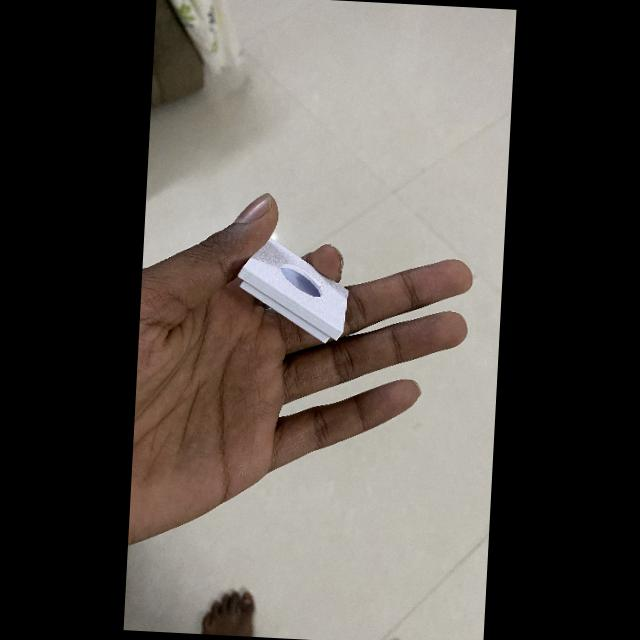RASPBERY PI CAM ENCLOSURE: (239, 239, 347, 342)
